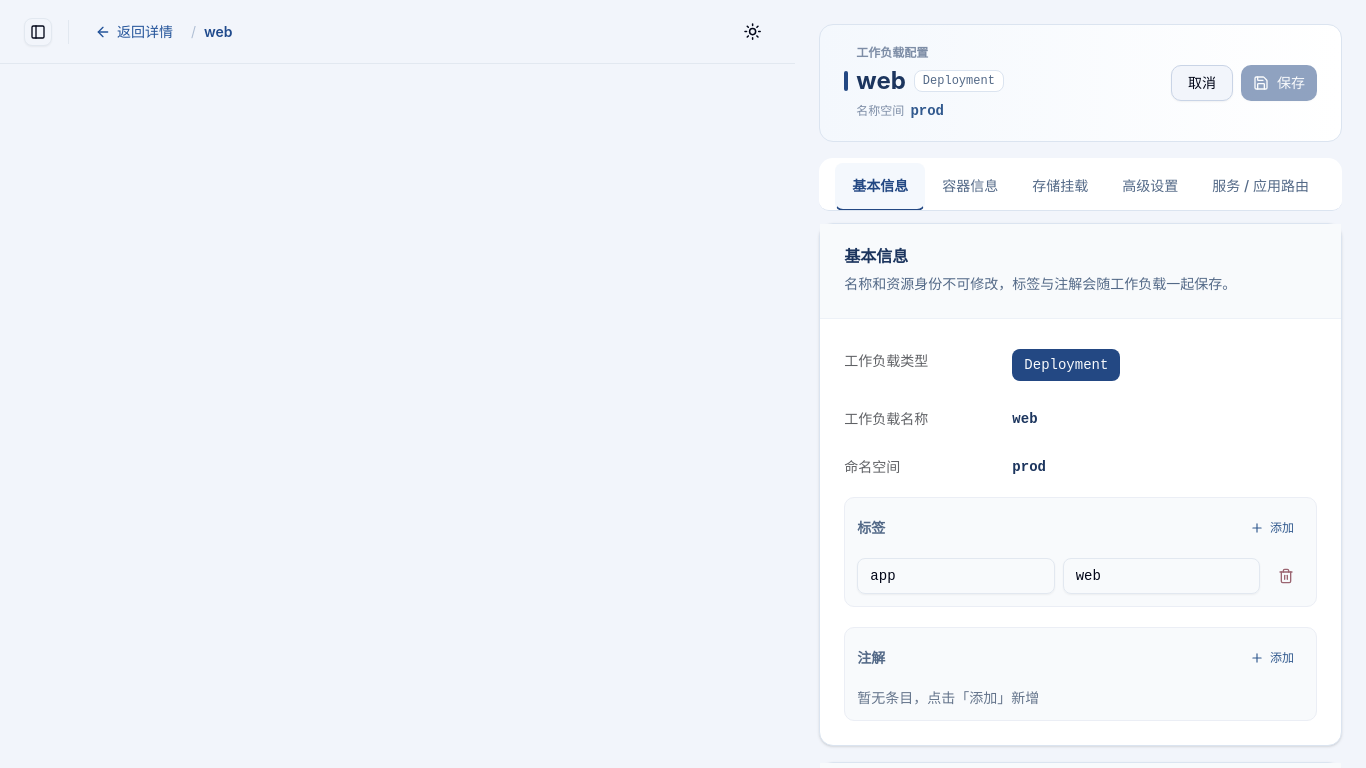
Test case: WorkloadEditorPage › renders header identity and underlined tabs; save enables when dirty
Expected: the heading "web" is shown, [856,65,906,97]
Expected: the text "Deployment" below "工作负载配置" is shown, [923,74,995,88]
Replace the text in the field named "标签 值 1" with "web2". click: x=1161, y=576
box: [1063,558,1260,594]
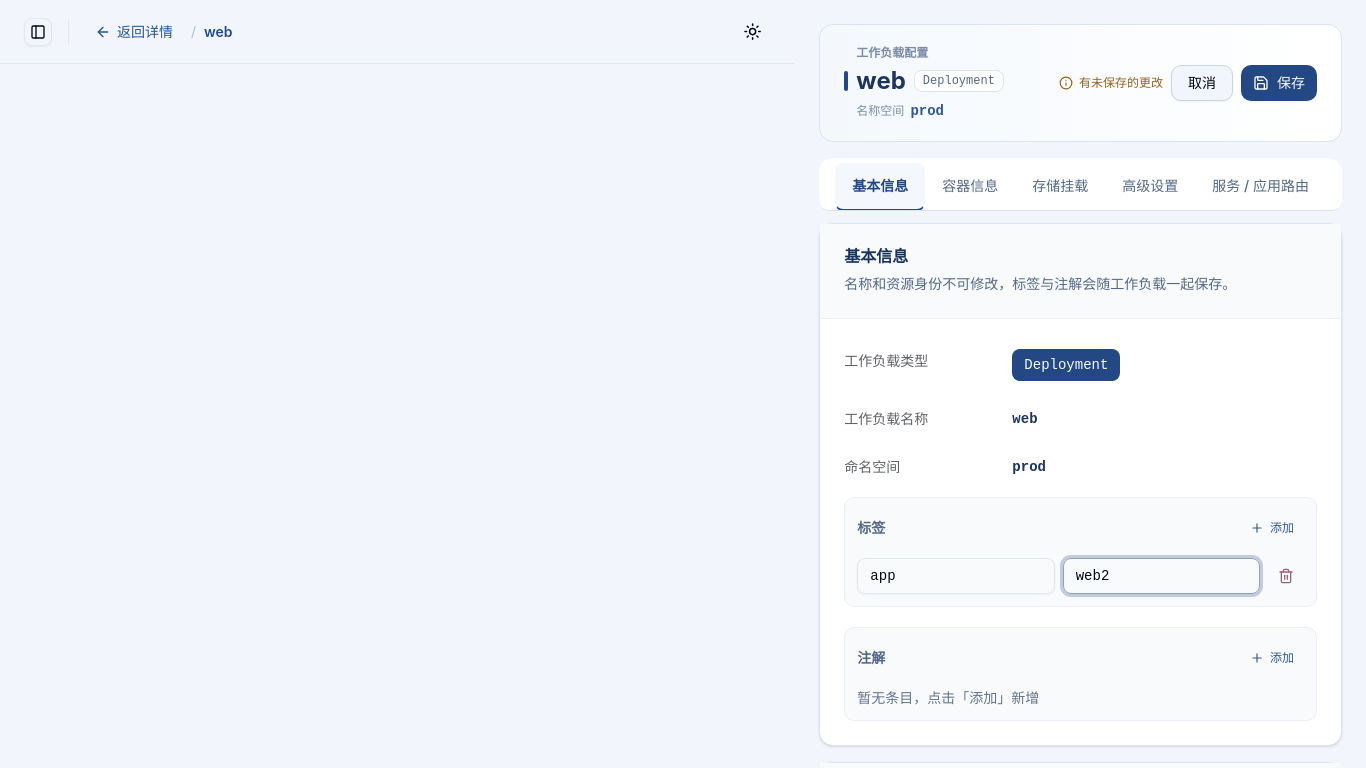
Expected: the button "保存" is enabled, [1241,65,1317,101]
Expected: the text "有未保存的更改" is shown, [1059,75,1163,91]
